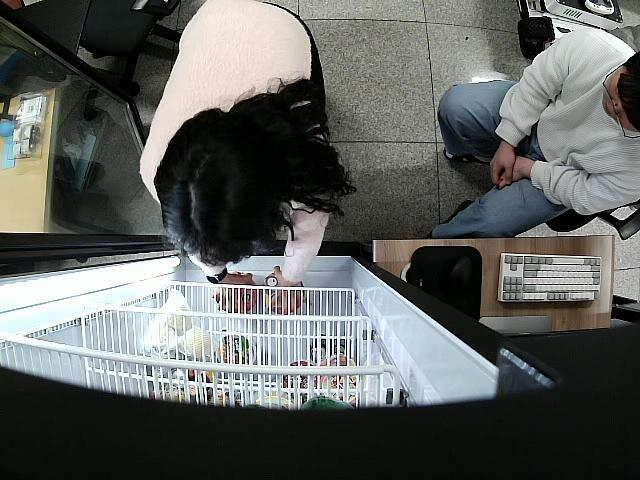05_nuguri_L: (263, 273, 306, 312)
